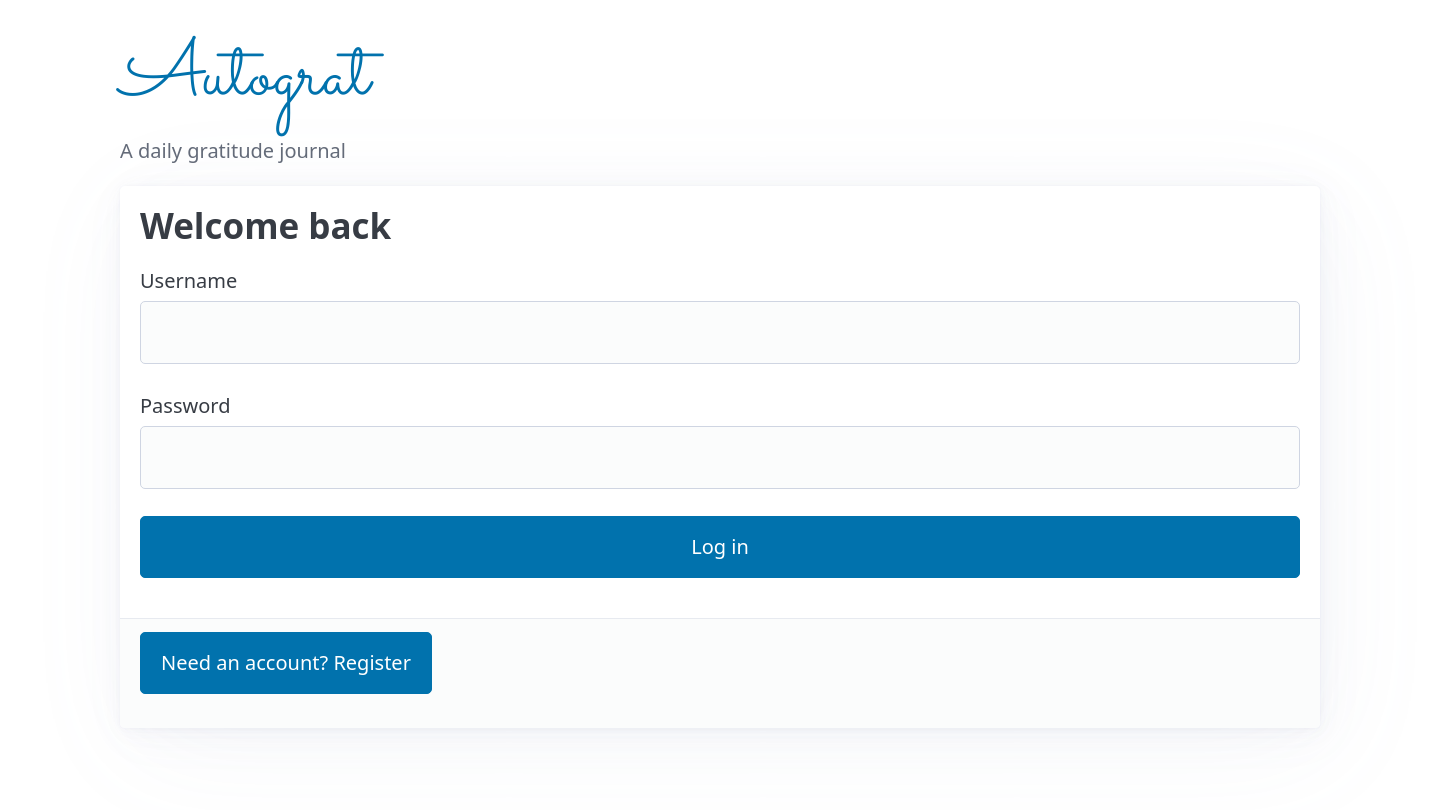
Scenario: LoginPage › shows an alert instead of submitting when a field is empty
Type "billy" into the field labelled "Username" at (720, 333), box [140, 301, 1300, 364]
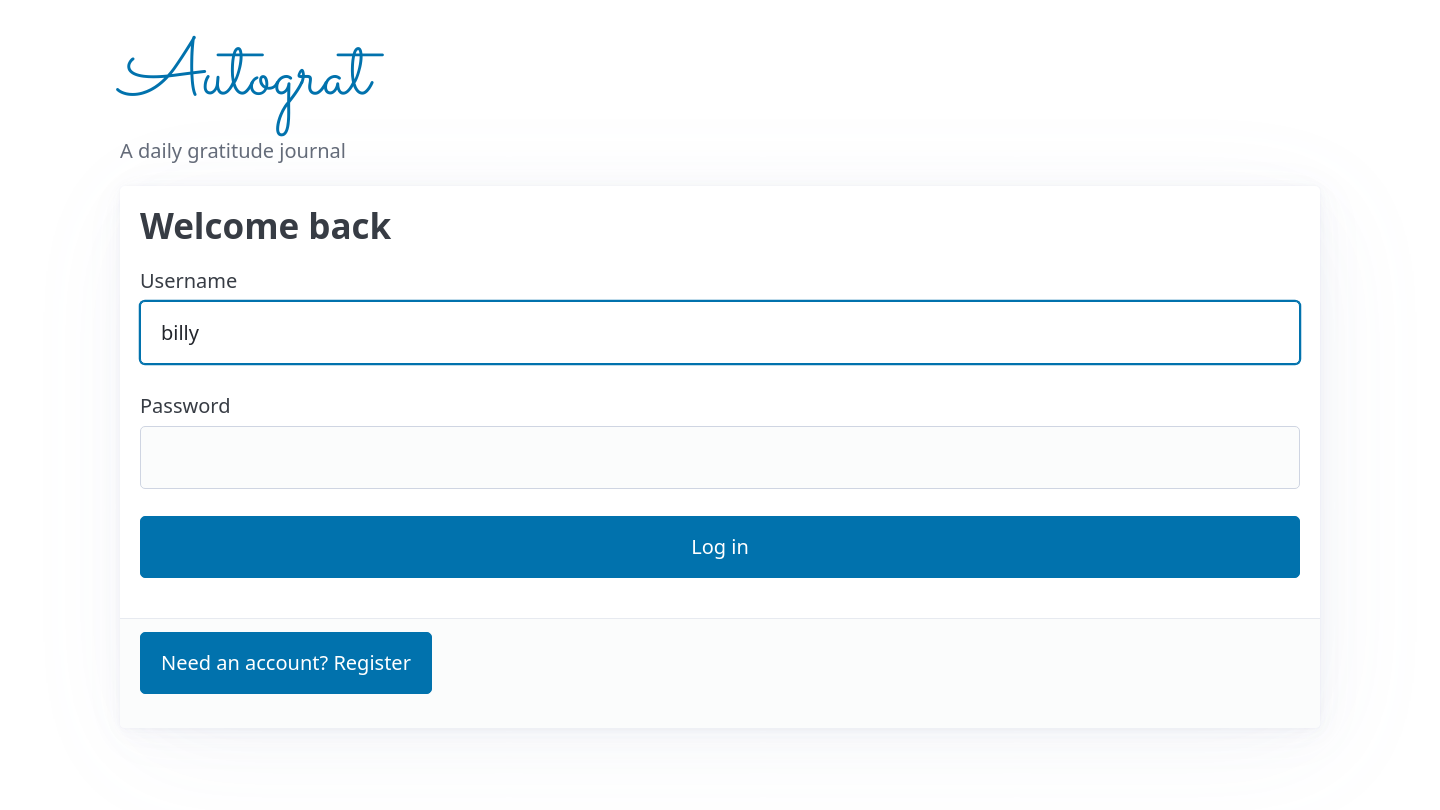
Click the button "Log in" at (720, 547), box [140, 516, 1300, 578]
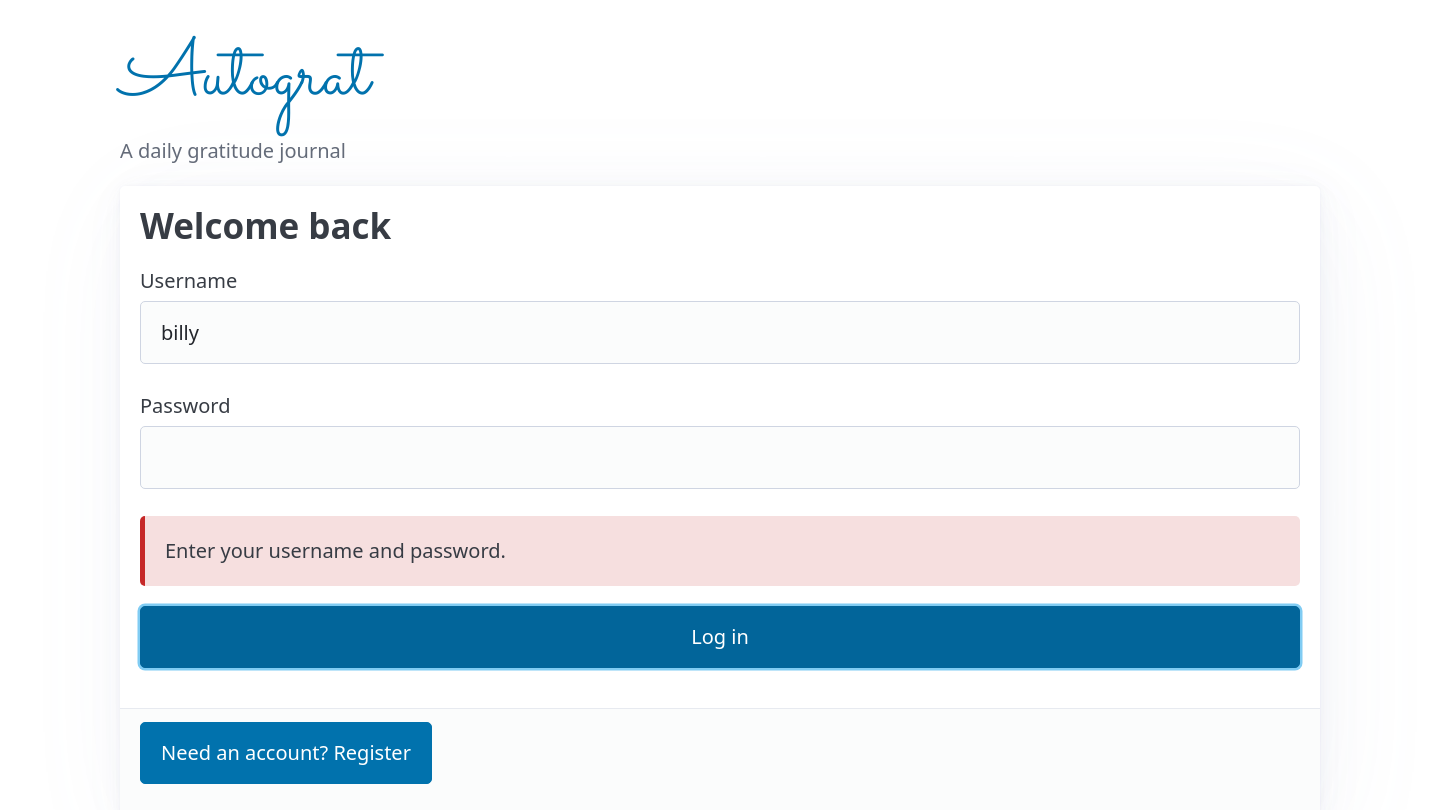
Now the message reads "Enter your username and password.", box [165, 537, 506, 564]
